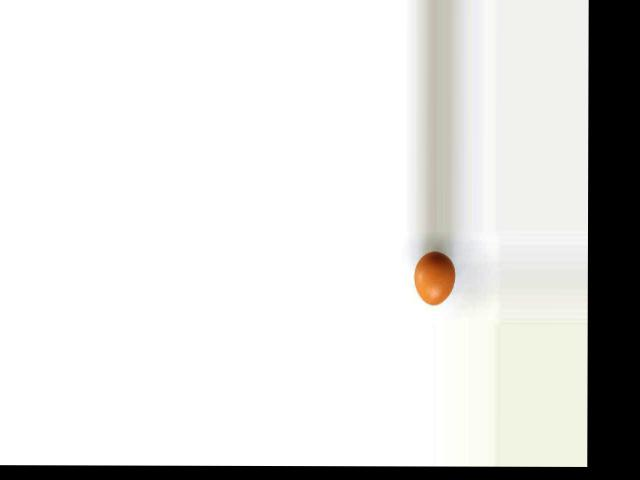egg: (415, 250, 456, 305)
